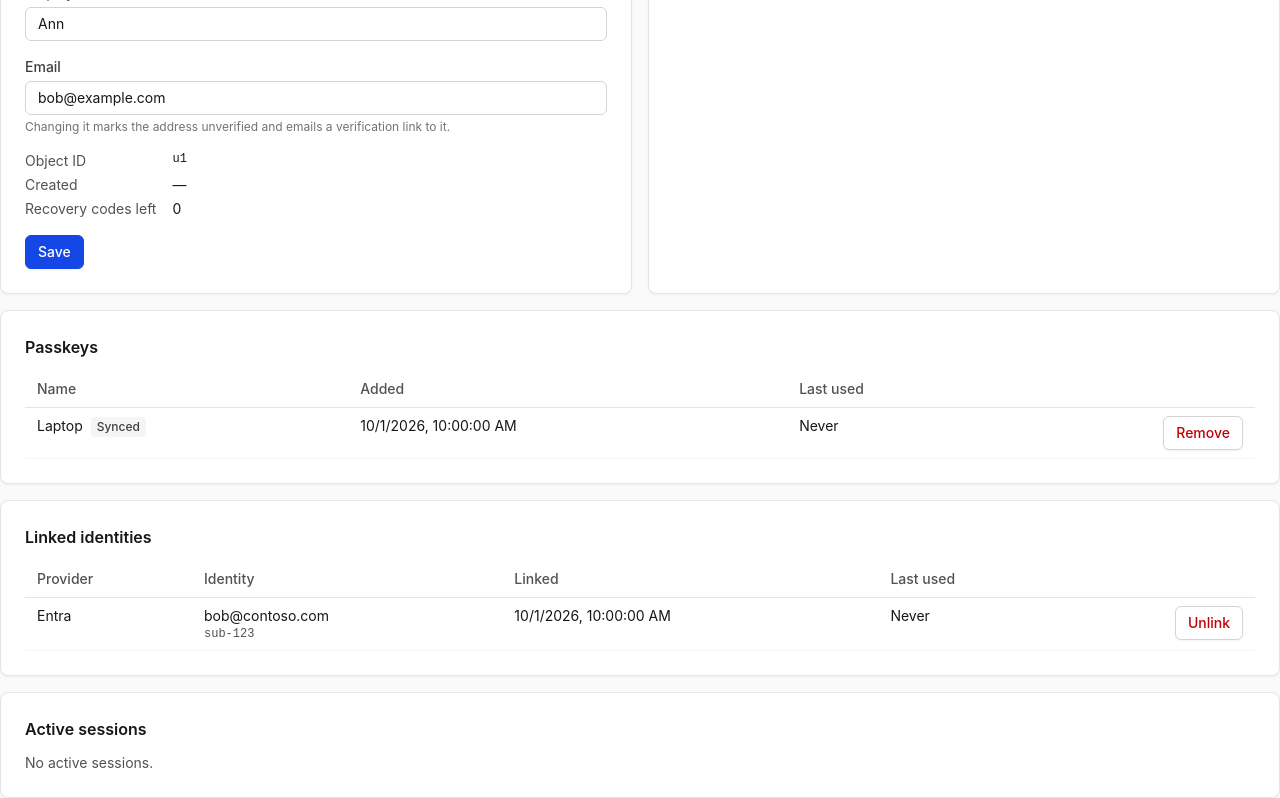
it: UserDetail linked identities › unlinks after confirmation and reloads the user
(page scrolled)
Click the button "Unlink".
click(1209, 623)  # box x1=1175 y1=606 x2=1243 y2=640
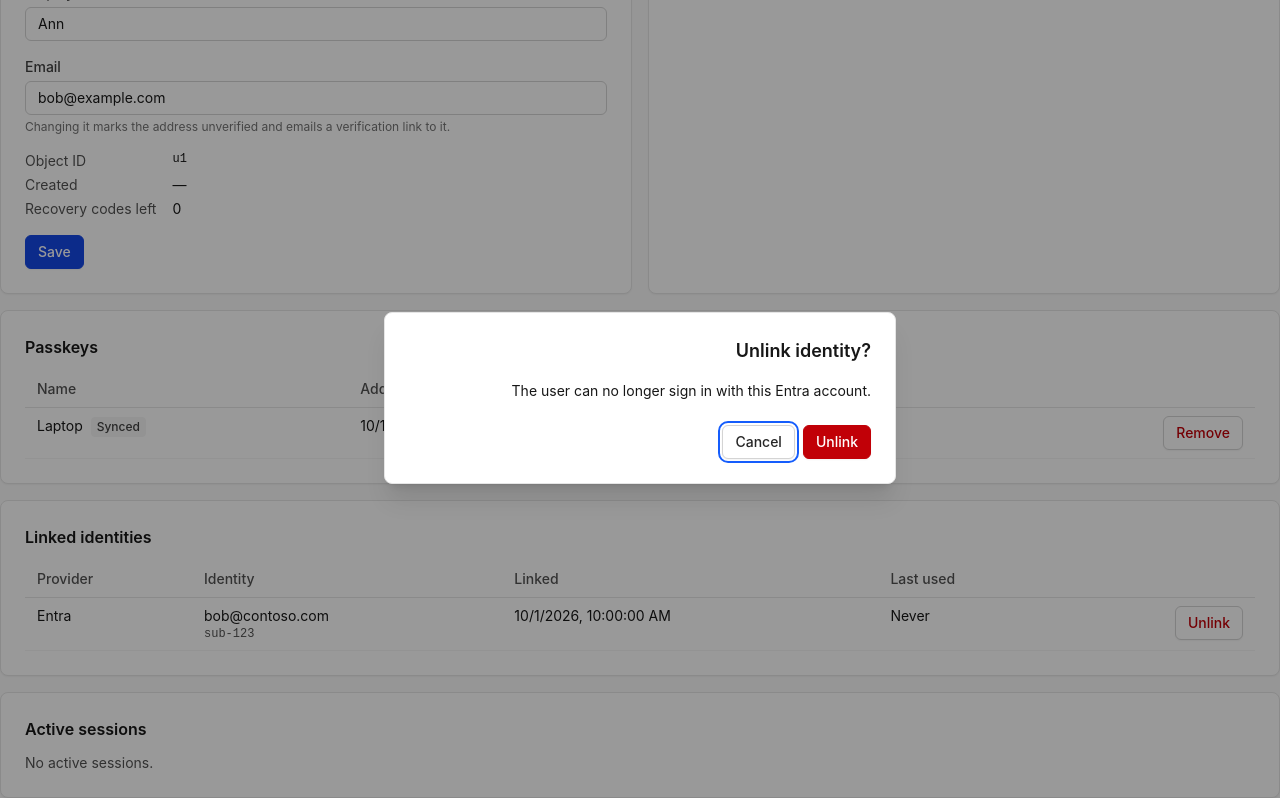
Click the button "Unlink" below "Unlink identity?".
click(837, 442)  # box x1=803 y1=425 x2=871 y2=459
(page scrolled)
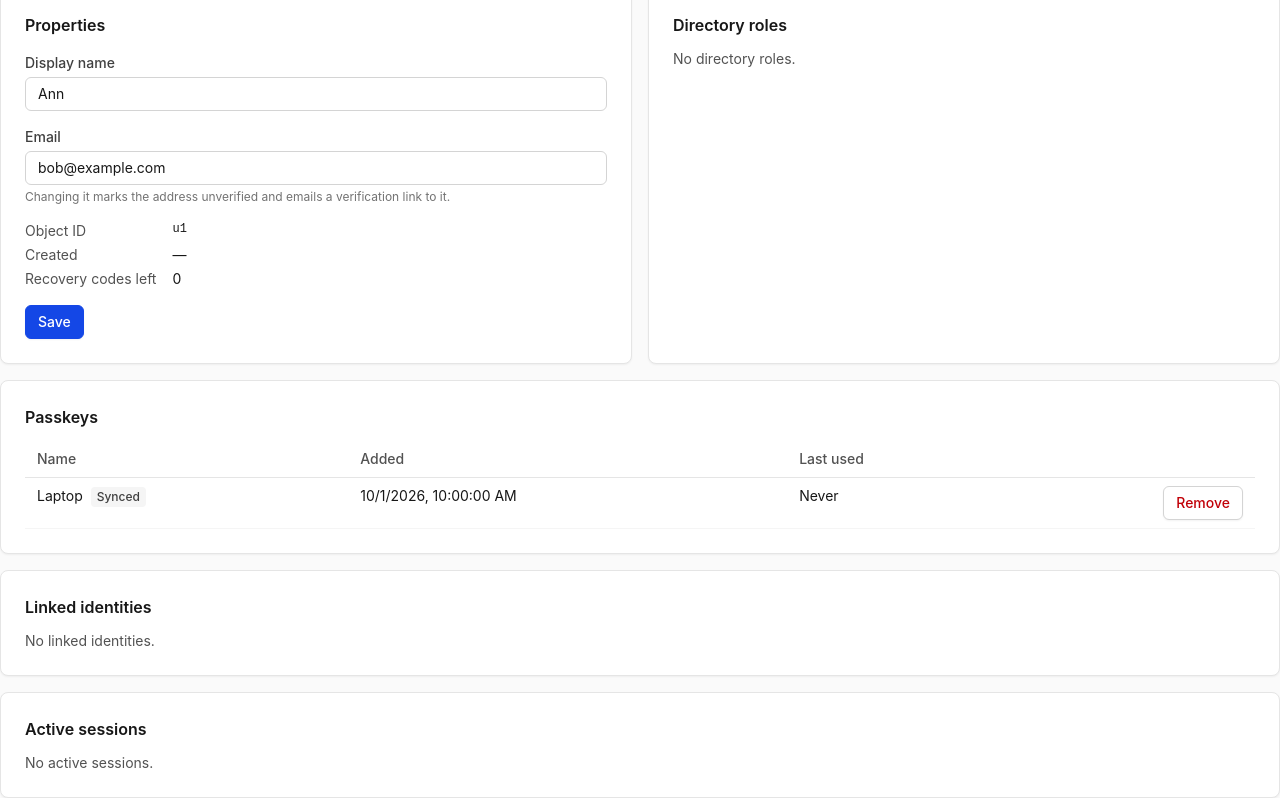
Result: the text "No linked identities." is shown at x1=25 y1=632 x2=155 y2=649
